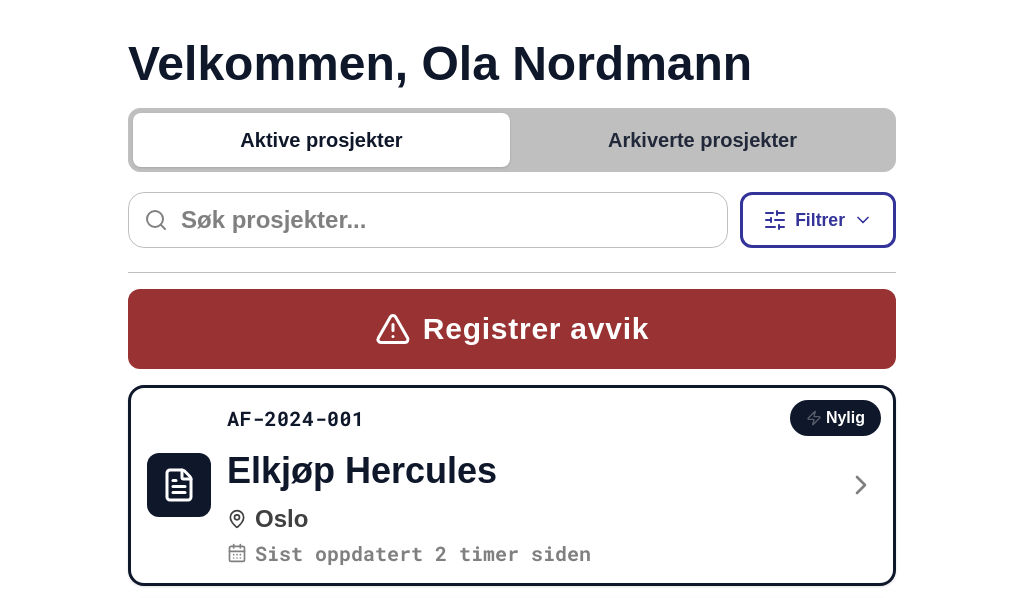
Test: ProjectsScreen › switches to archived projects
Check: the heading "Elkjøp Hercules" is shown, box [227,450,497,491]
Click the button "Arkiverte prosjekter".
click(702, 140)  # box [514,113,891,167]
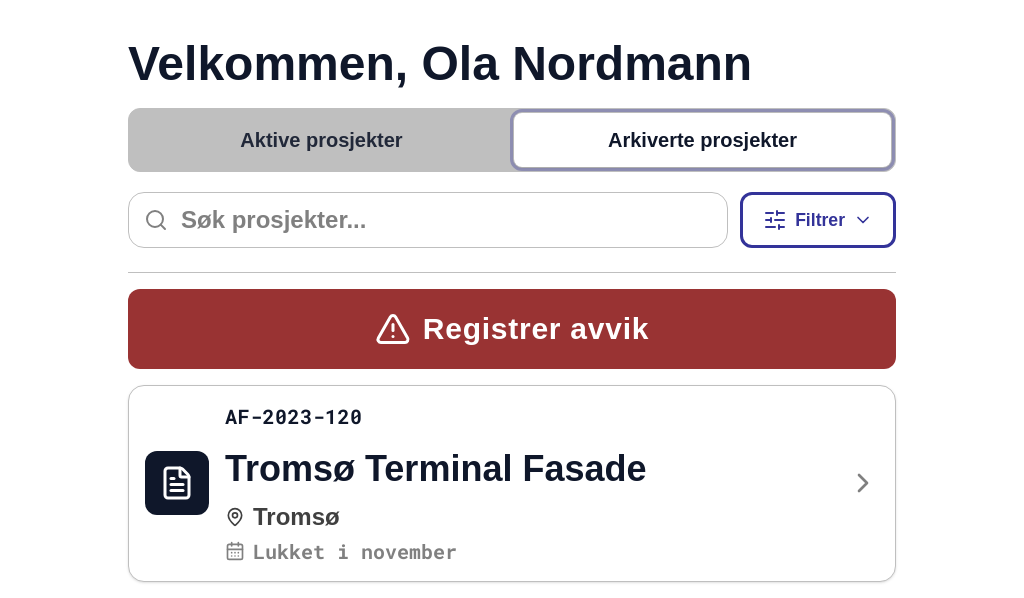
Check: the heading "Tromsø Terminal Fasade" is shown, box [225,448,646,489]
Check: the button "Elkj.p Hercules" is gone
